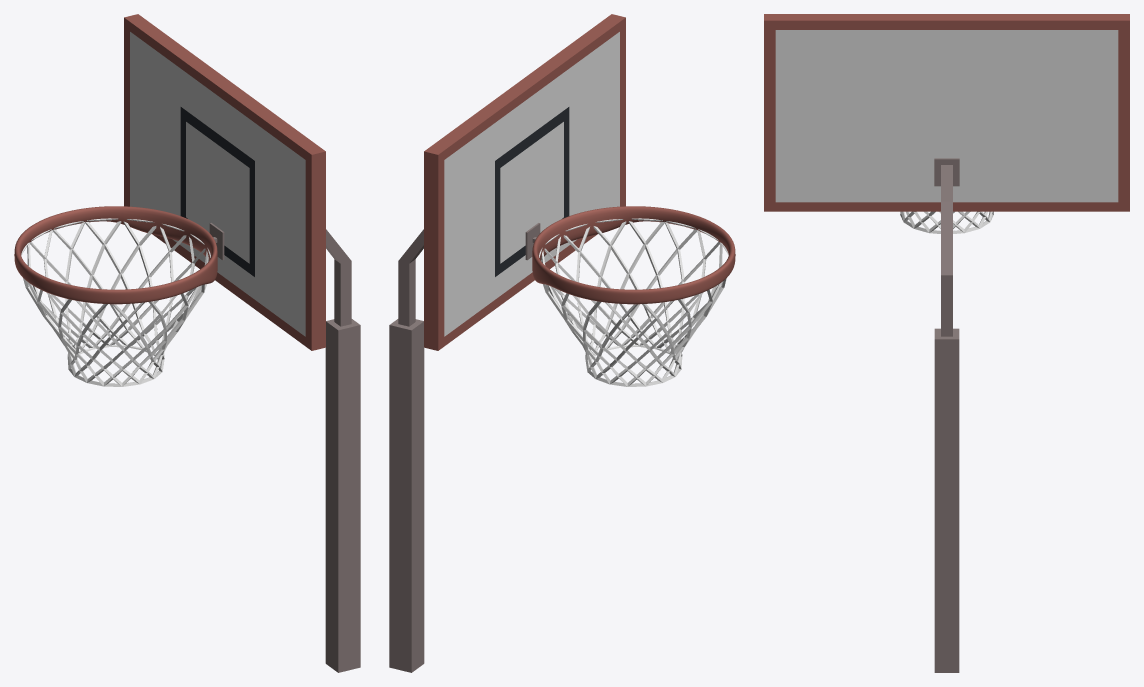
The model's file is Basketball_Court -3D 1.fbx.
3 views of the same model, side by side, from view 1: azimuth 30°, elevation 25°; view 2: azimuth 150°, elevation 25°; view 3: azimuth 270°, elevation 25° (orthographic). The views are drawn at different scales.
Visible parts, largest first — view 1: Basketball_Stand; view 2: Basketball_Stand; view 3: Basketball_Stand.
Boxes of the visible parts, x1=… form: Basketball_Stand: x1=14, y1=14, x2=360, y2=672; Basketball_Stand: x1=389, y1=14, x2=735, y2=672; Basketball_Stand: x1=764, y1=14, x2=1129, y2=672.
Size of what is drawn, in the model's own units: 59.71 by 107 by 59.56.
